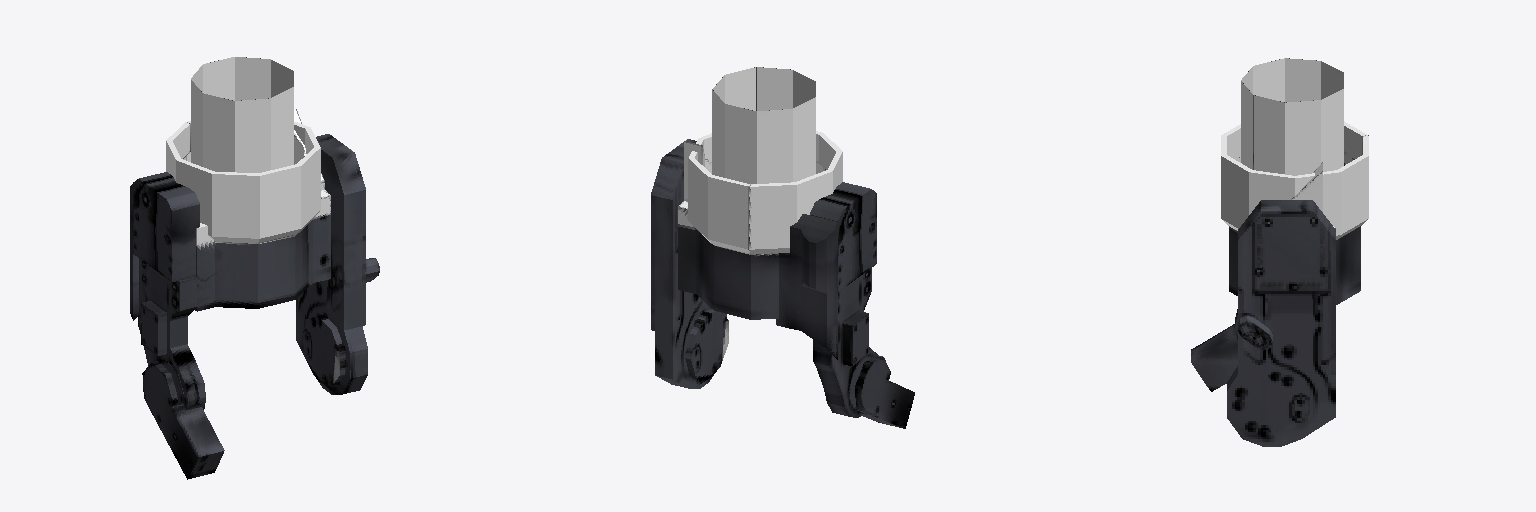
3 renders of one model, left to right at view 1: azimuth 30°, elevation 25°; view 2: azimuth 150°, elevation 25°; view 3: azimuth 270°, elevation 25°, orthographic.
Visible parts, largest first — view 1: l_scap; view 2: l_scap; view 3: l_scap.
Boxes of the visible parts, box(x1,y1,x2,y2) form: l_scap: box(130, 57, 379, 479); l_scap: box(651, 67, 914, 428); l_scap: box(1191, 58, 1368, 446).
Size of the model in its own units: 0.1718 by 0.2756 by 0.1279.
1 materials, 1 textured.